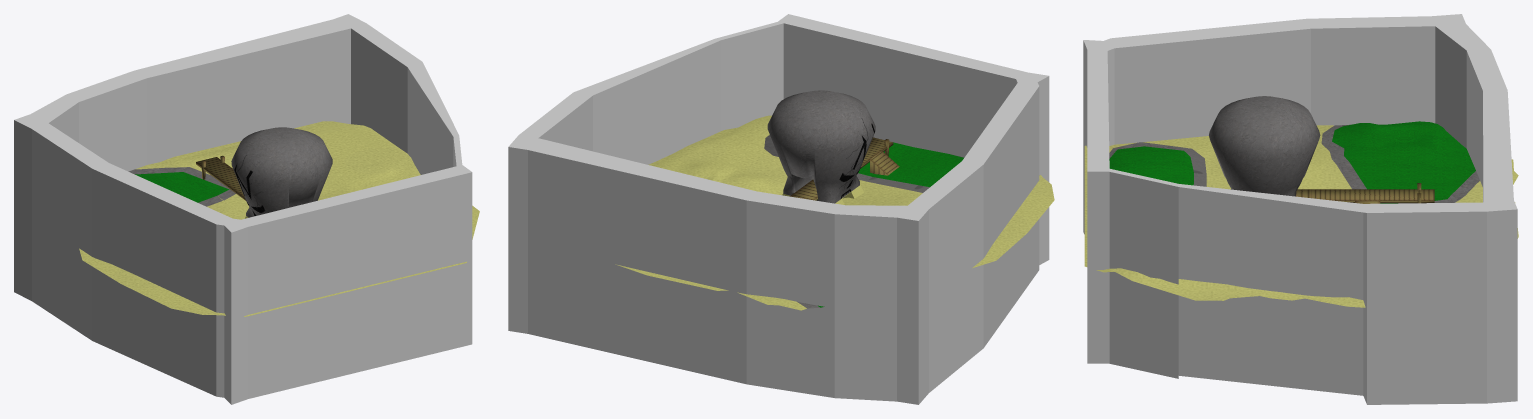
The model's file is map_nn.fbx.
3 views of the same model, side by side, from view 1: azimuth 30°, elevation 25°; view 2: azimuth 150°, elevation 25°; view 3: azimuth 270°, elevation 25° (orthographic). The views are drawn at different scales.
Parts seen in each view (by area): view 1: Plane; view 2: Plane; view 3: Plane.
Part boxes in pixels (left/top/right/bottom): Plane: left=14, top=14, right=479, bottom=404; Plane: left=508, top=14, right=1054, bottom=404; Plane: left=1083, top=14, right=1518, bottom=404.
Bounding box in the file's own units: 127 × 58.25 × 117.
